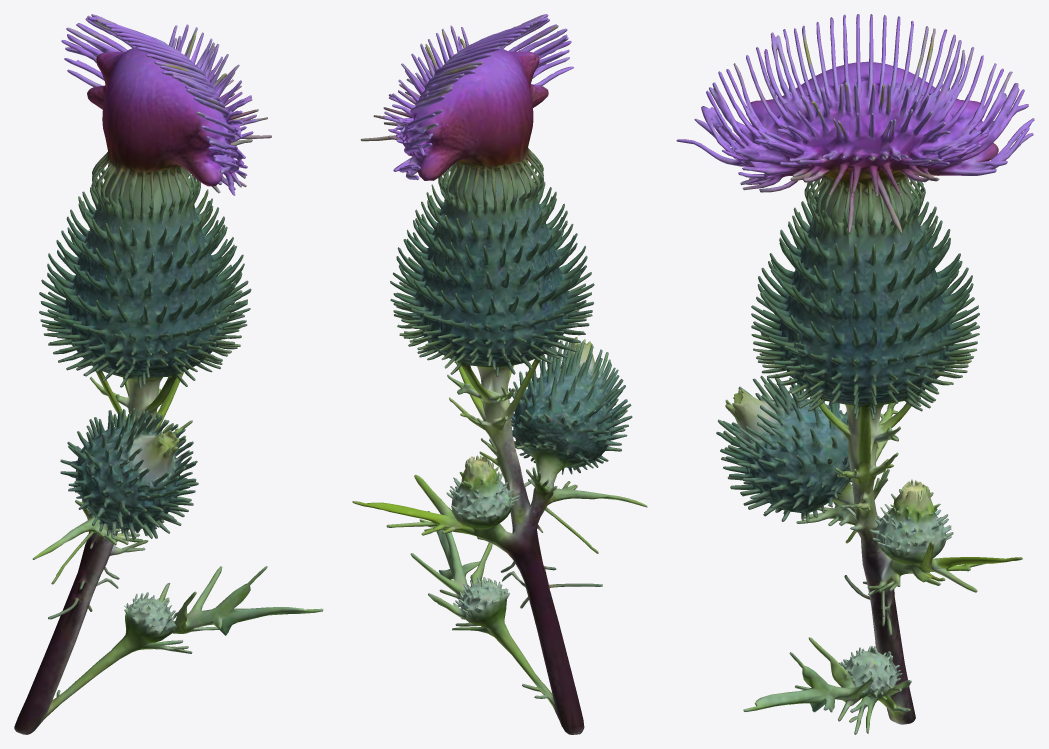
File: uk-thistle.glb
3 renders of one model, left to right at view 1: azimuth 30°, elevation 25°; view 2: azimuth 150°, elevation 25°; view 3: azimuth 270°, elevation 25°, orthographic. The views are drawn at different scales.
Visible parts, largest first — view 1: tripo_node_70eb42a2-4df4-424d-9cc0-68a14c6d4820; view 2: tripo_node_70eb42a2-4df4-424d-9cc0-68a14c6d4820; view 3: tripo_node_70eb42a2-4df4-424d-9cc0-68a14c6d4820.
Boxes of the visible parts, left/top/right/bottom form: tripo_node_70eb42a2-4df4-424d-9cc0-68a14c6d4820: left=14, top=14, right=323, bottom=734; tripo_node_70eb42a2-4df4-424d-9cc0-68a14c6d4820: left=352, top=14, right=647, bottom=734; tripo_node_70eb42a2-4df4-424d-9cc0-68a14c6d4820: left=676, top=14, right=1034, bottom=734.
Size of the model in its own units: 0.3933 by 0.9997 by 0.433.
1 material, 1 textured.
